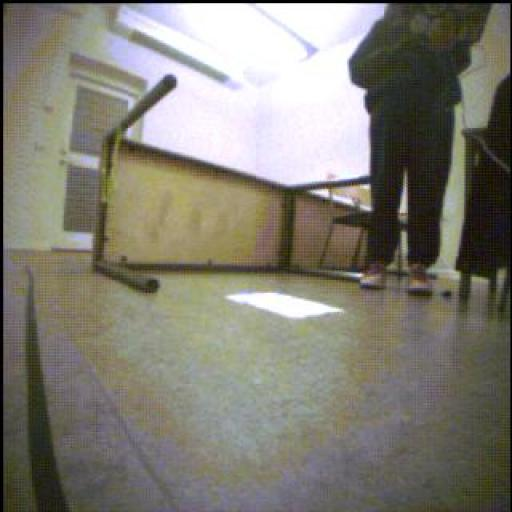Pad: (229, 294, 344, 319)
